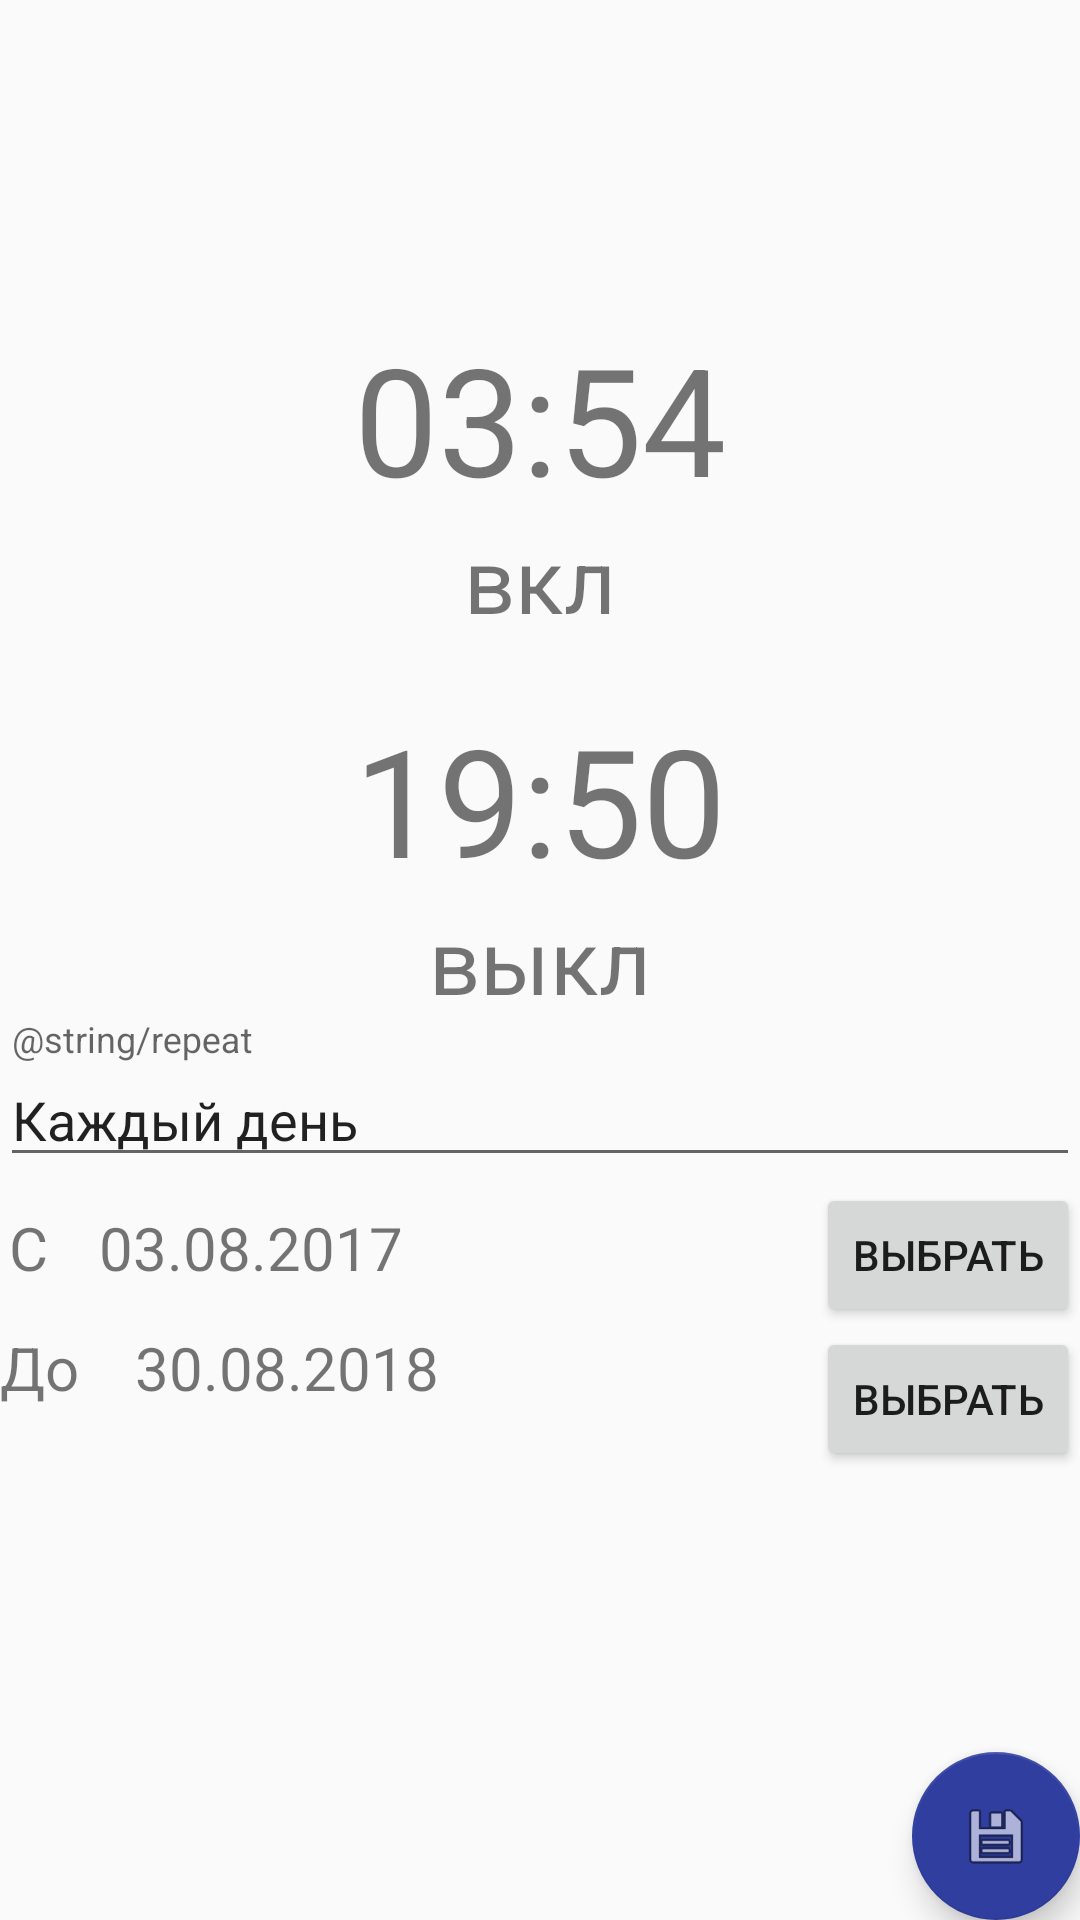

Named icons in this screenshot (1080*1920) and their centers, (x=x, y=y):
save: (x=996, y=1836)
